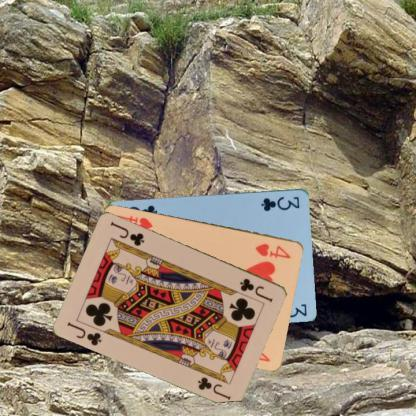3c: (258, 194, 300, 212)
4h: (252, 240, 292, 260)
Jc: (64, 318, 104, 348), (238, 276, 274, 304)
